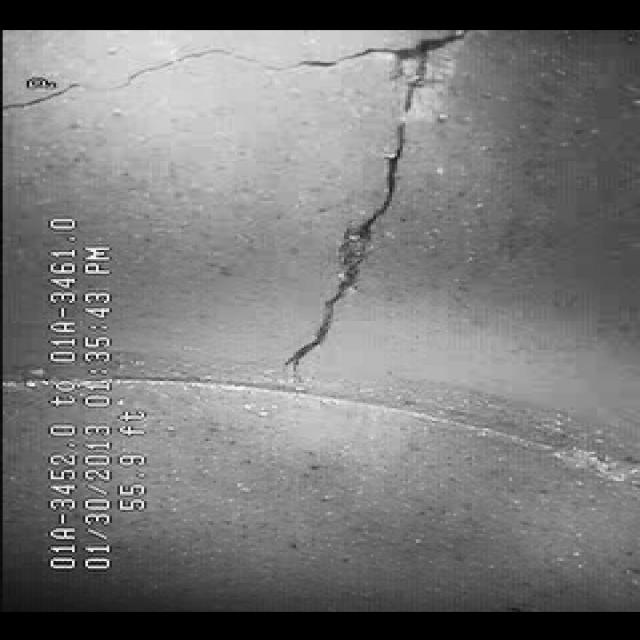Crack: (253, 40, 462, 378)
